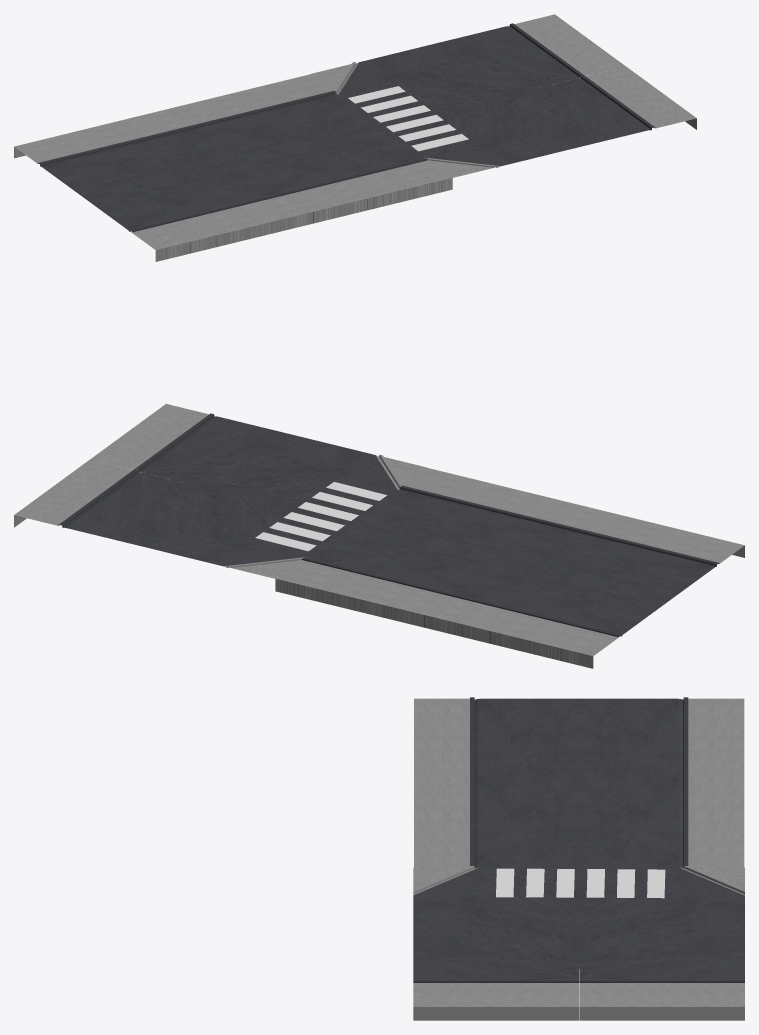
Rendered from TJunctionNoArms.dae.
The picture shows the model from 3 angles, top to bottom: view 1: azimuth 30°, elevation 25°; view 2: azimuth 150°, elevation 25°; view 3: azimuth 270°, elevation 25°; orthographic projection. The views are drawn at different scales.
Visible parts, largest first — view 1: RoadStraight.002, Plane.001; view 2: RoadStraight.002, Plane.001; view 3: RoadStraight.002, Plane.001.
Part boxes in pixels (x1,y1,x2,y2): RoadStraight.002: (14,14,696,261); Plane.001: (348,86,468,151); RoadStraight.002: (14,404,744,668); Plane.001: (255,482,387,551); RoadStraight.002: (413,697,744,1020); Plane.001: (496,868,665,898).
Bounding box in the file's own units: 45.61 × 45.71 × 1.05.
Materials: 4 (3 with a texture image).
